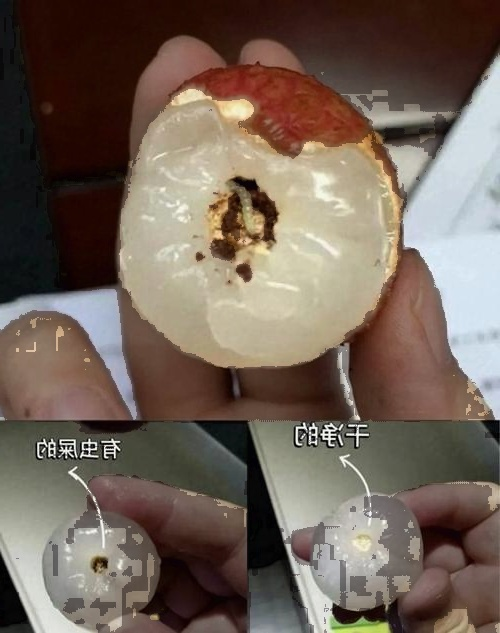Borer: (232, 166, 251, 235)
